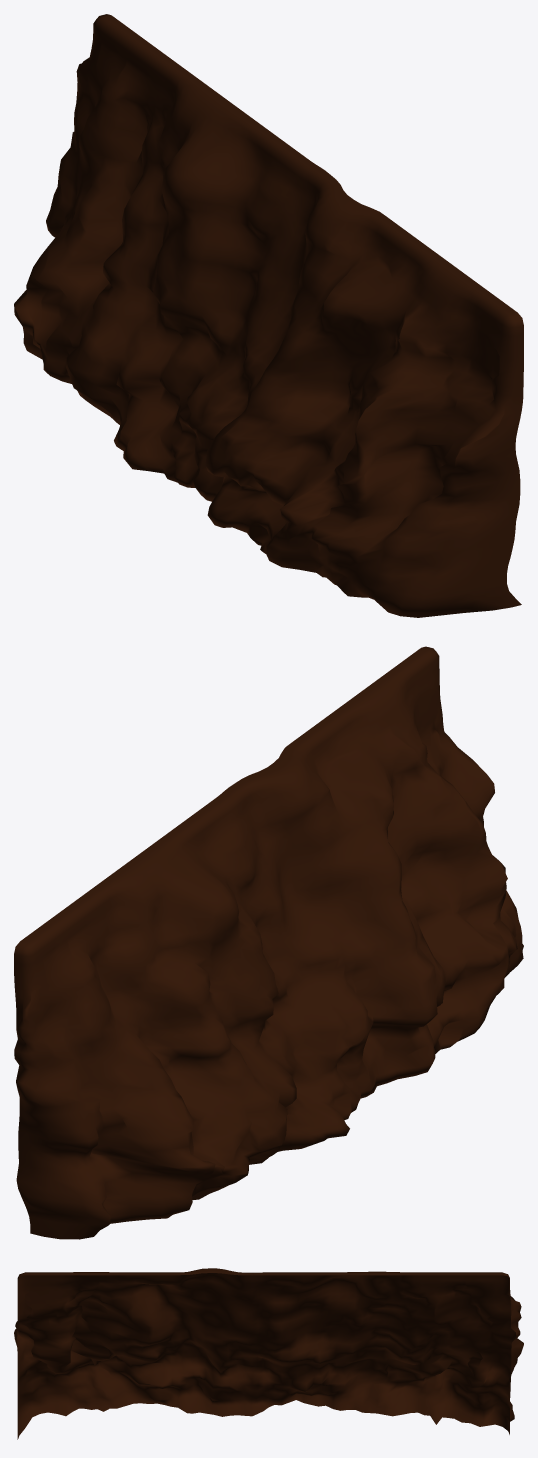
The model's file is Pared Rocosa.fbx.
3 views of the same model, one above another, from view 1: azimuth 30°, elevation 25°; view 2: azimuth 150°, elevation 25°; view 3: azimuth 270°, elevation 25° (orthographic). The views are drawn at different scales.
Parts seen in each view (by area): view 1: Rock_Wall; view 2: Rock_Wall; view 3: Rock_Wall.
Boxes of the visible parts, x1=… form: Rock_Wall: x1=14, y1=14, x2=523, y2=617; Rock_Wall: x1=14, y1=646, x2=523, y2=1239; Rock_Wall: x1=14, y1=1268, x2=523, y2=1439.
Bounding box in the file's own units: 8.27 × 14.27 × 38.33.
